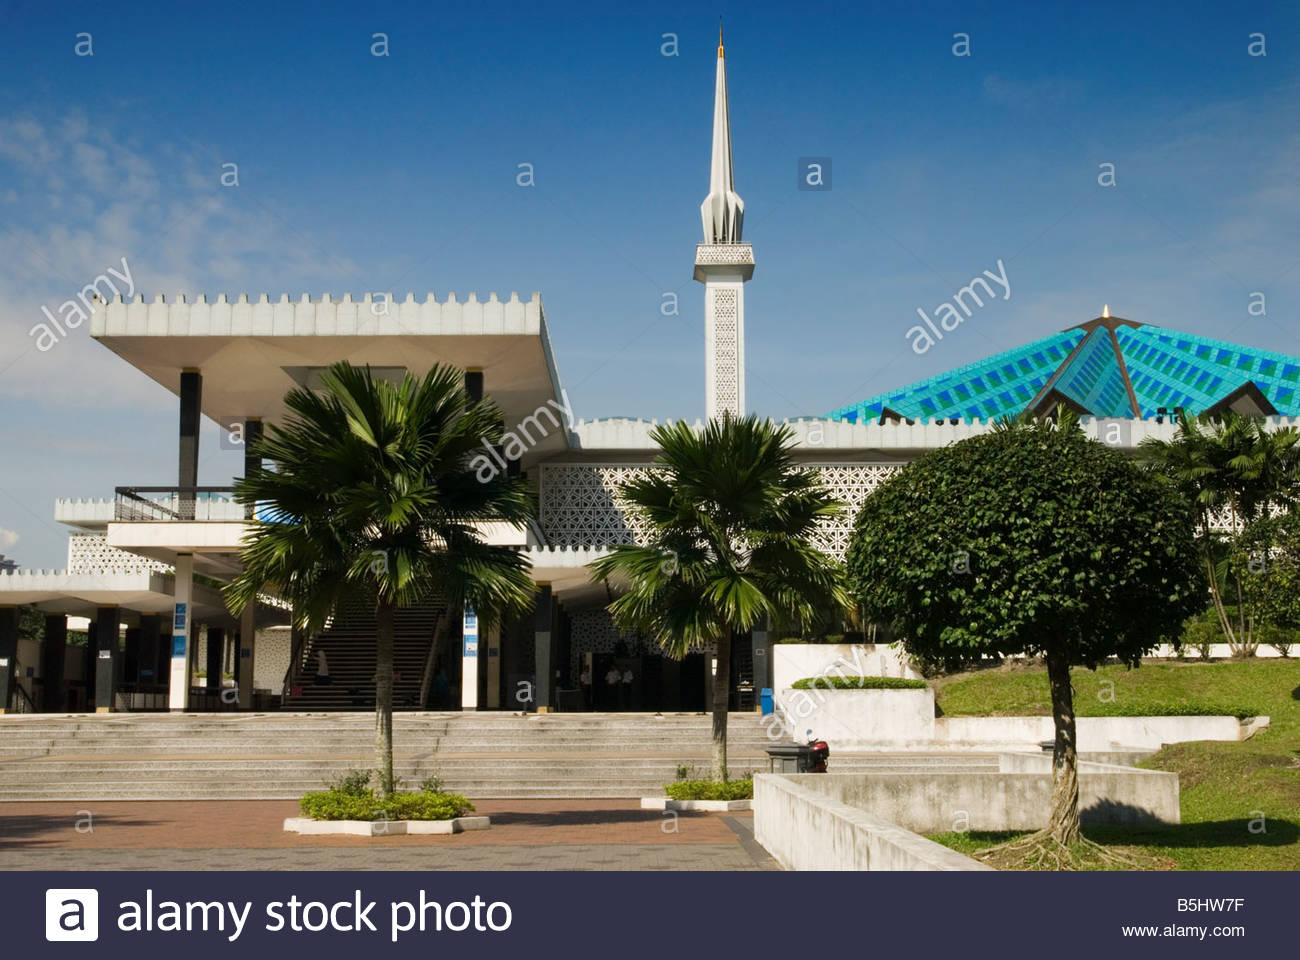Mosque: (675, 33, 757, 410)
